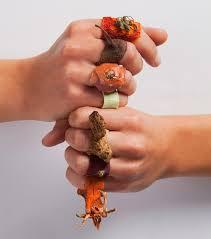Organic: (64, 25, 161, 228)
